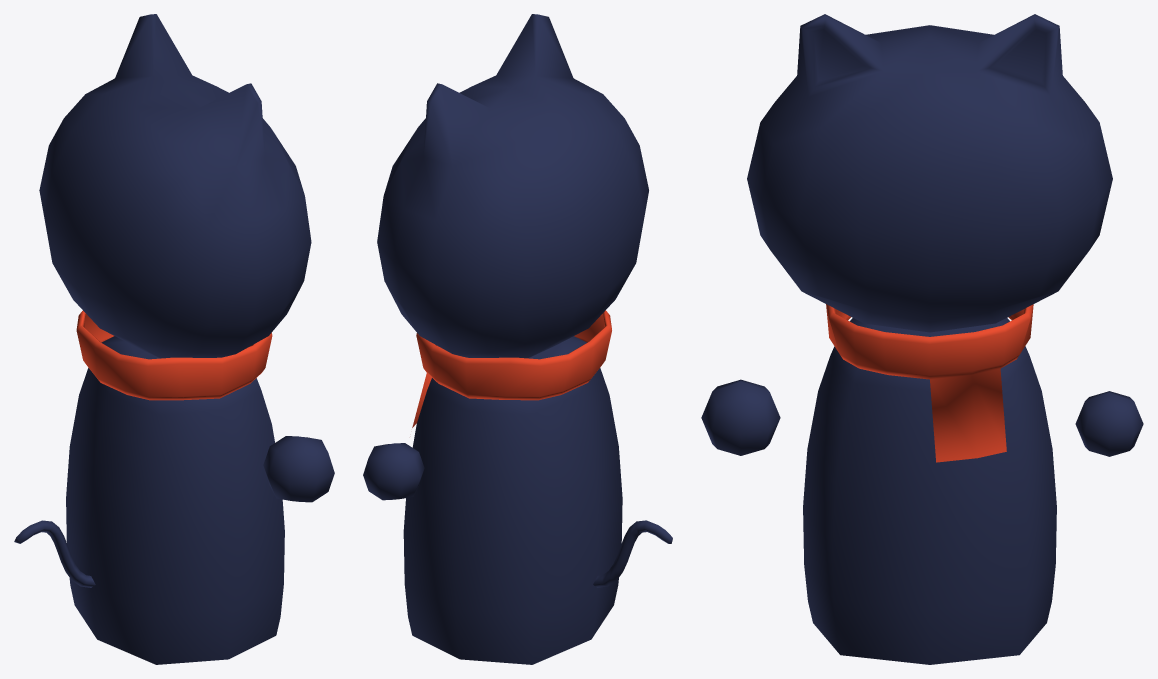
Rendered from dummy_character.fbx.
The picture shows the model from 3 angles, left to right: view 1: azimuth 30°, elevation 25°; view 2: azimuth 150°, elevation 25°; view 3: azimuth 270°, elevation 25°; orthographic projection. The views are drawn at different scales.
Visible parts, largest first — view 1: mc_head, mc_body, mc_muffler, mc_hand_2, mc_tail; view 2: mc_head, mc_body, mc_muffler, mc_hand, mc_tail; view 3: mc_head, mc_body, mc_muffler, mc_hand_2, mc_hand.
Boxes of the visible parts, left/top/right/bottom form: mc_head: left=39, top=14, right=311, bottom=358; mc_body: left=66, top=336, right=284, bottom=664; mc_muffler: left=76, top=310, right=272, bottom=400; mc_hand_2: left=263, top=436, right=334, bottom=502; mc_tail: left=14, top=520, right=95, bottom=587; mc_head: left=377, top=14, right=648, bottom=358; mc_body: left=403, top=336, right=622, bottom=664; mc_muffler: left=412, top=310, right=611, bottom=427; mc_hand: left=363, top=443, right=424, bottom=500; mc_tail: left=593, top=520, right=672, bottom=587; mc_head: left=747, top=14, right=1112, bottom=332; mc_body: left=803, top=318, right=1056, bottom=664; mc_muffler: left=826, top=304, right=1033, bottom=462; mc_hand_2: left=701, top=379, right=780, bottom=455; mc_hand: left=1075, top=391, right=1143, bottom=456.
Size of the model in its own units: 146 by 299 by 193.
